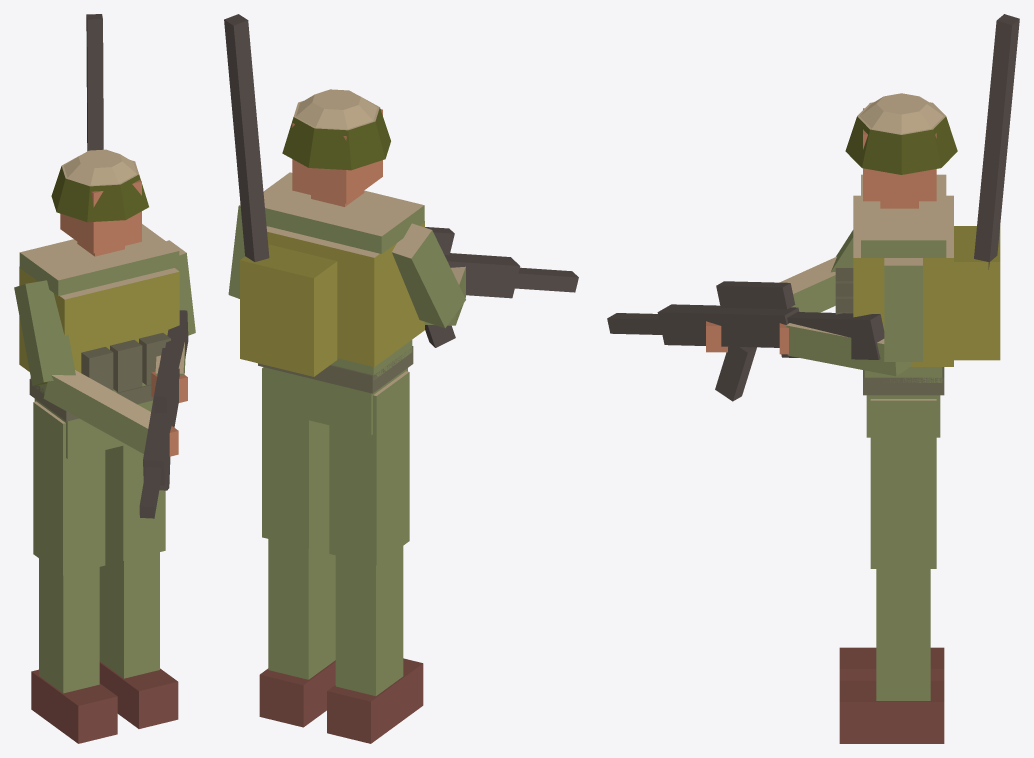
The model's file is SM_SoldadoArmado_v5_G36E_Reposo_LOD1.fbx.
3 renders of one model, left to right at view 1: azimuth 30°, elevation 25°; view 2: azimuth 150°, elevation 25°; view 3: azimuth 270°, elevation 25°, orthographic. The views are drawn at different scales.
Parts seen in each view (by area): view 1: SM_bloques.soldado_armado_v5_LOD1; view 2: SM_bloques.soldado_armado_v5_LOD1; view 3: SM_bloques.soldado_armado_v5_LOD1.
Boxes of the visible parts, x1,y1,x2,y2 form: SM_bloques.soldado_armado_v5_LOD1: [14, 14, 195, 743]; SM_bloques.soldado_armado_v5_LOD1: [224, 14, 578, 743]; SM_bloques.soldado_armado_v5_LOD1: [607, 14, 1019, 743].
Size of the model in its own units: 0.5846 by 2.05 by 1.06.
